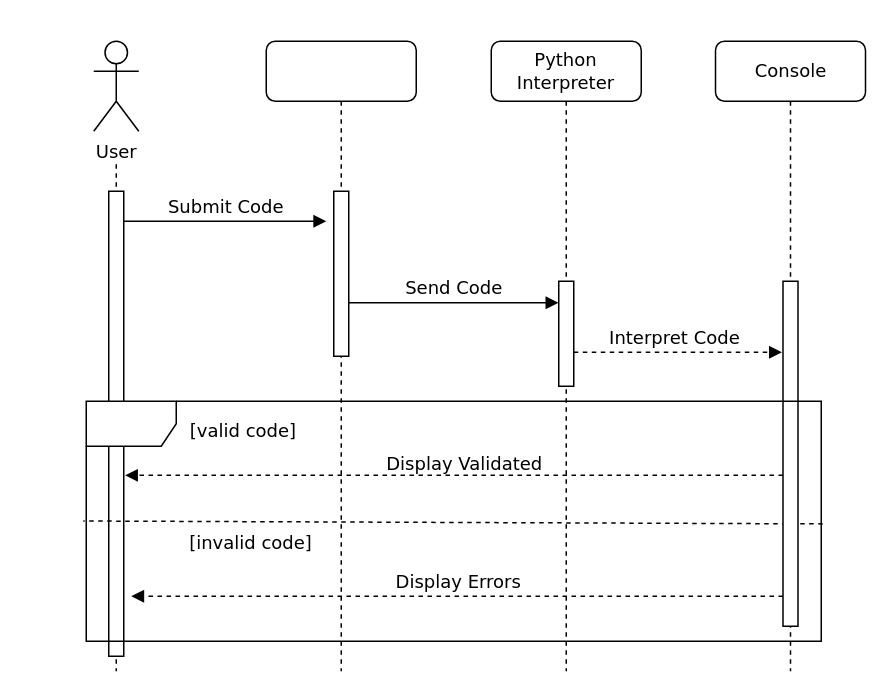
Some shapes in this 891 by 698 pixel diagram are drawn without their labels. The shapes that lost their labels are listed below. From the top down, each one's centre as x and y in pixels, then its label:
At point 340,355: "Text Editor".
At point 453,520: "alt".
